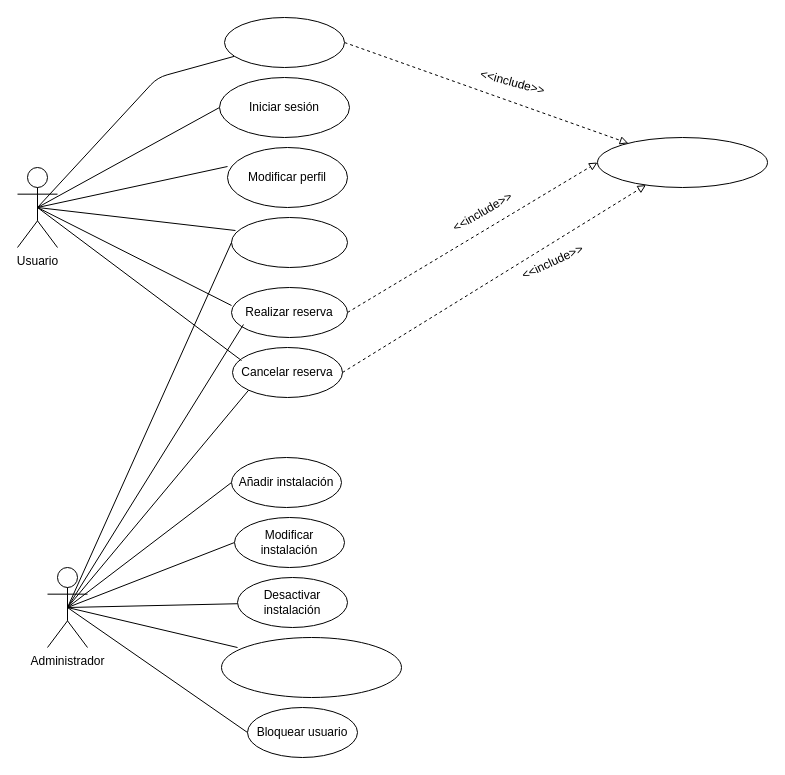
The diagram is 785 pixels wide and 775 high, and some of its shapes have lost their labels. The shapes that lost their labels are listed below. From the top down, each one's centre as x and y in pixels, then its label:
point (284, 42): Registrarse
point (682, 162): Enviar correo confirmación
point (289, 242): Consultar disponibilidad
point (311, 667): Consultar listado de usuarios
